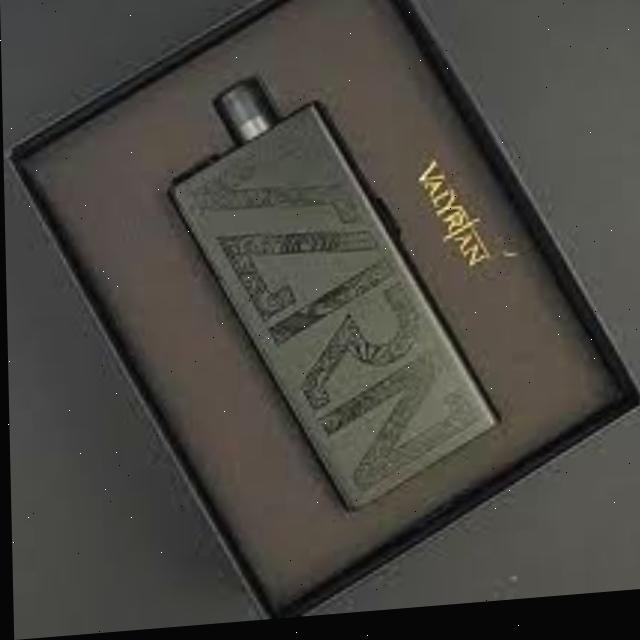vape: (161, 71, 504, 535)
